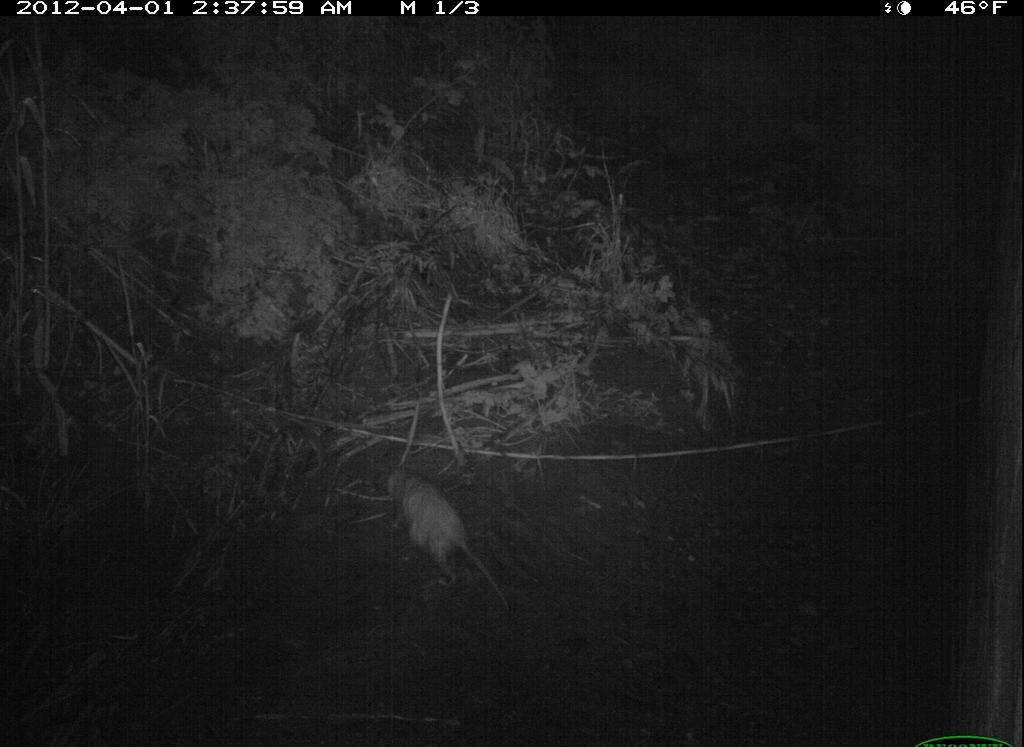opossum: (378, 461, 521, 629)
